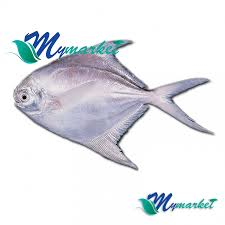Ikan Bawal: (6, 52, 221, 171)
